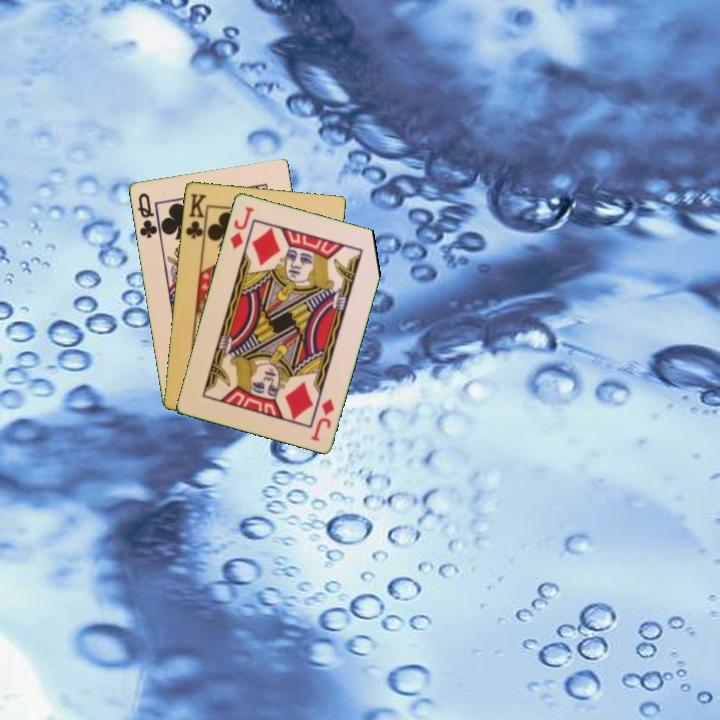Jd: (226, 202, 256, 252), (307, 394, 337, 444)
Kc: (182, 189, 209, 245)
Qc: (134, 189, 160, 241)
